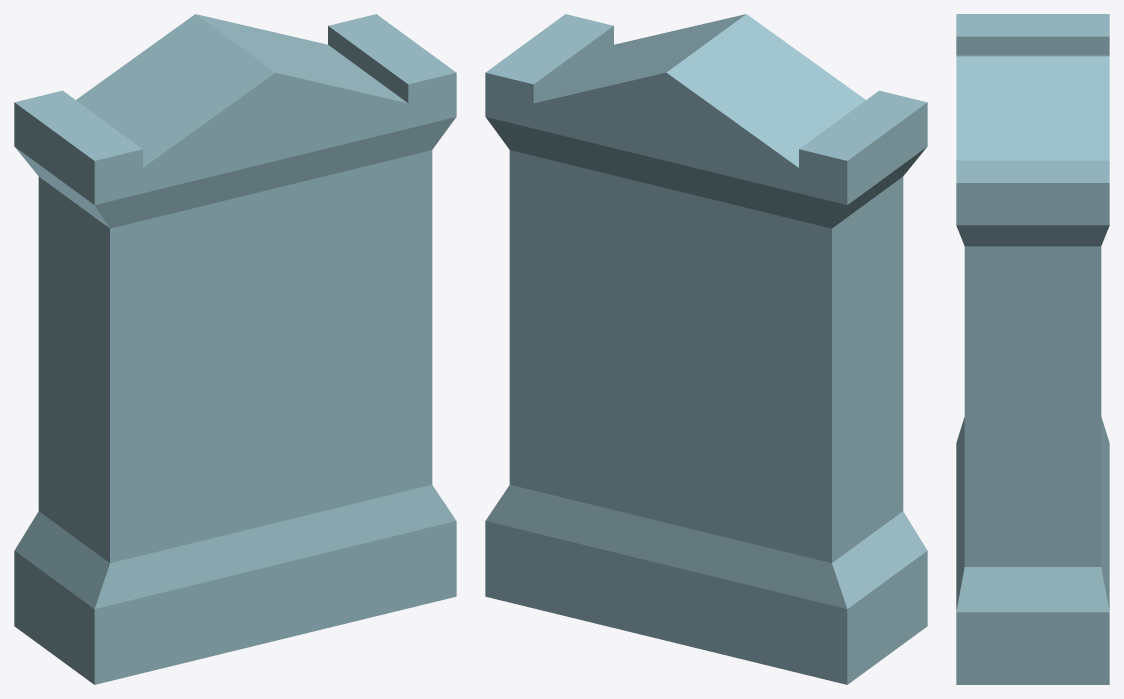
Rendered from gravestoneDecorative.dae.
The picture shows the model from 3 angles, left to right: view 1: azimuth 30°, elevation 25°; view 2: azimuth 150°, elevation 25°; view 3: azimuth 270°, elevation 25°; orthographic projection. The views are drawn at different scales.
Parts seen in each view (by area): view 1: gravestoneDecorative; view 2: gravestoneDecorative; view 3: gravestoneDecorative.
Boxes of the visible parts, x1,y1,x2,y2 form: gravestoneDecorative: (14,14,456,684); gravestoneDecorative: (485,14,927,684); gravestoneDecorative: (956,14,1109,684).
Bounding box in the file's own units: 0.39 × 0.585 × 0.1495.
